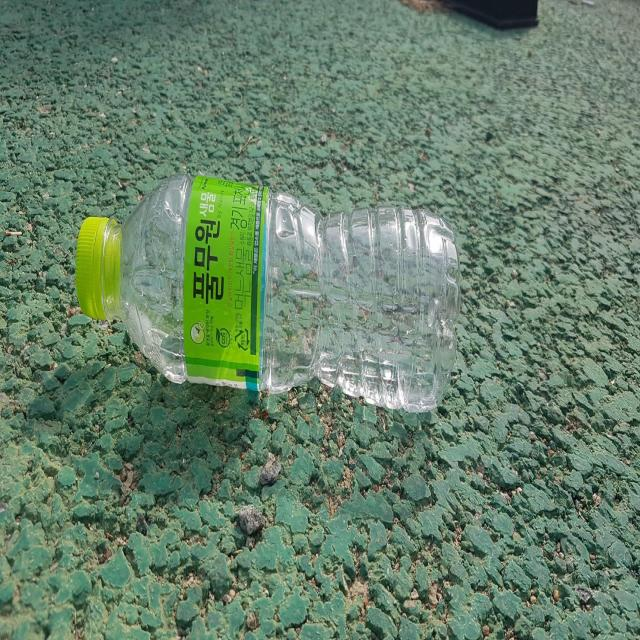plastic: (75, 174, 461, 412)
